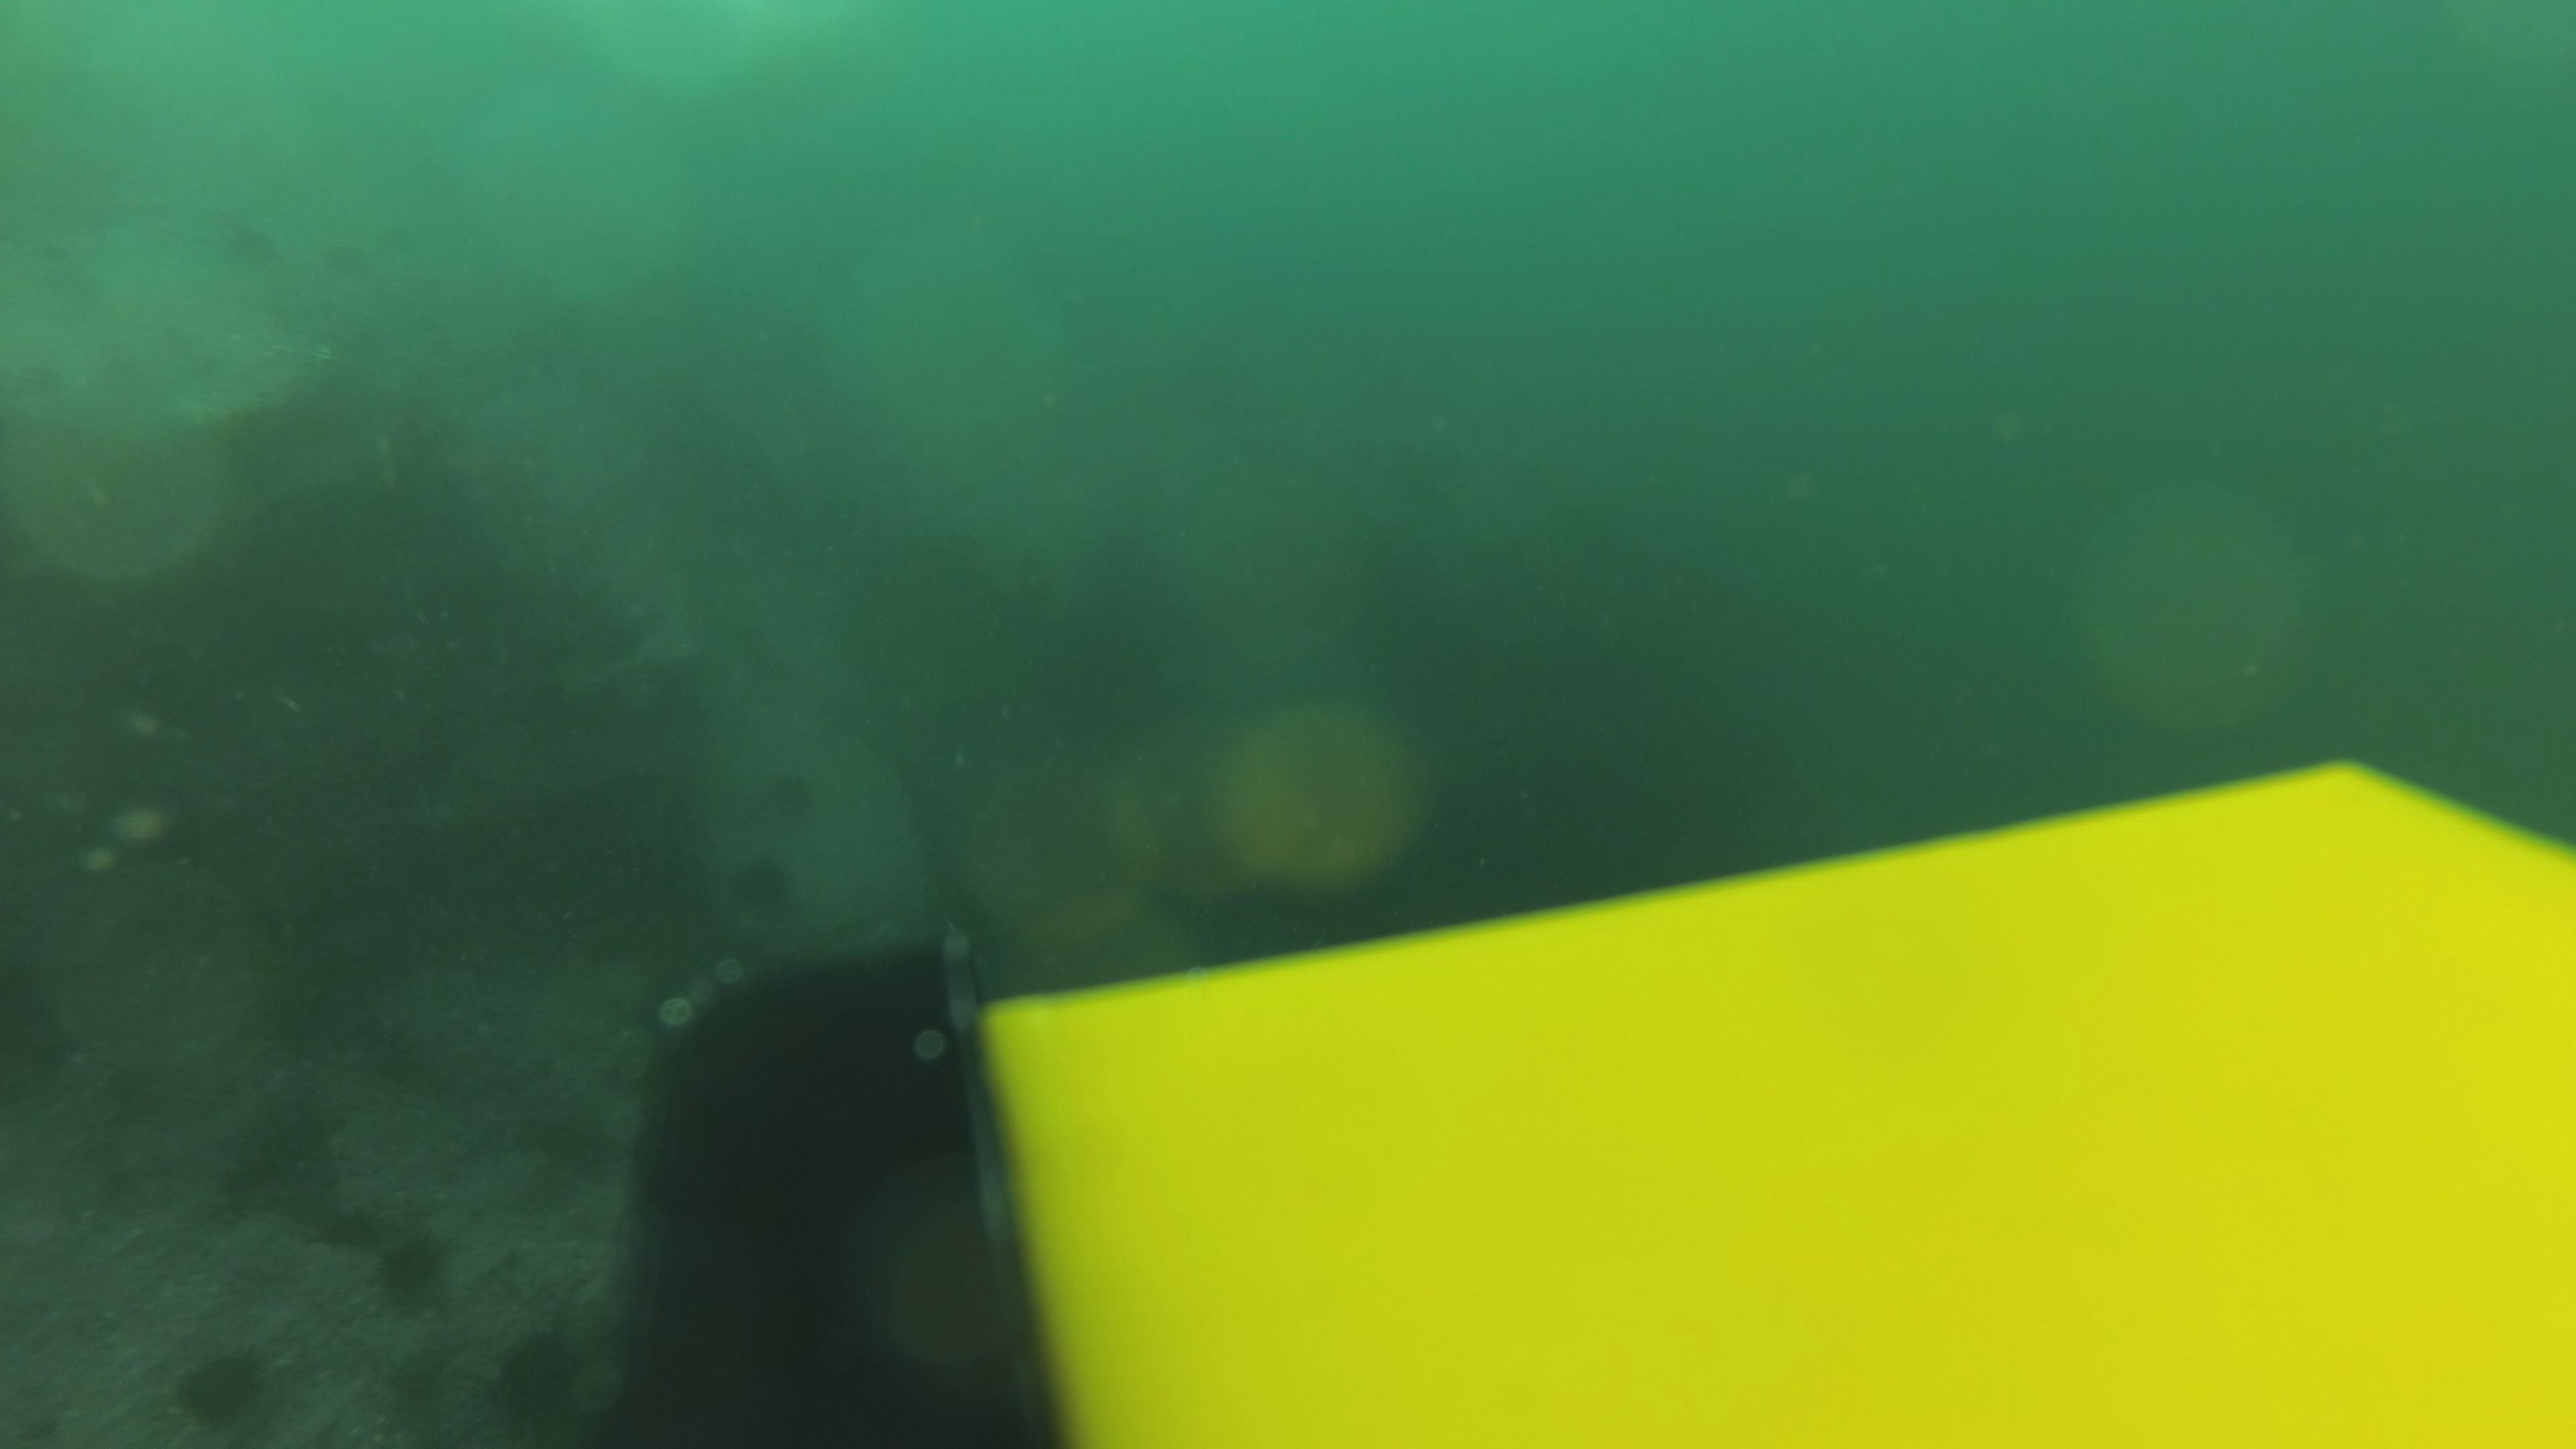echinus: (479, 1323, 593, 1437), (166, 1339, 283, 1435), (364, 1221, 458, 1309), (725, 847, 801, 922), (320, 1192, 384, 1260), (761, 763, 823, 828)
